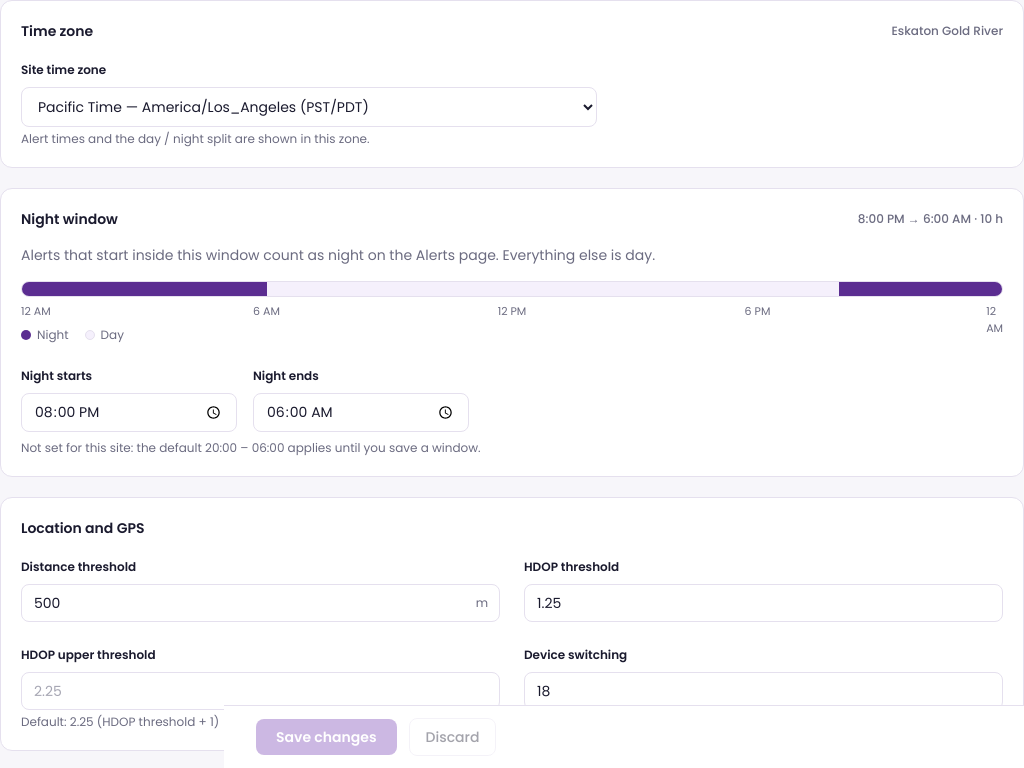
Test: SiteSettingsView › sends only what was changed, then shows the saved confirmation
The width and height of the screenshot is (1024, 768).
Replace the text in the field labelled "Distance threshold" with "600": (260, 603) [21,584,500,622]
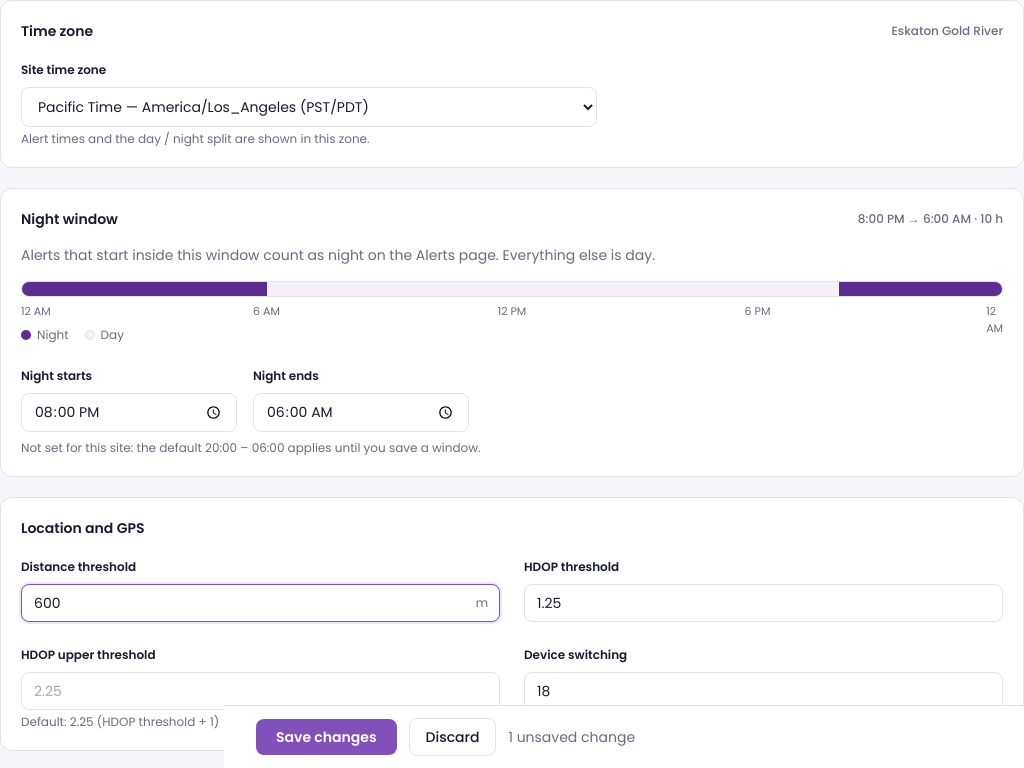
Check: the text "1 unsaved change" is shown, box [508,727,635,747]
Click the button "Save changes": (326, 737) [256,719,397,755]
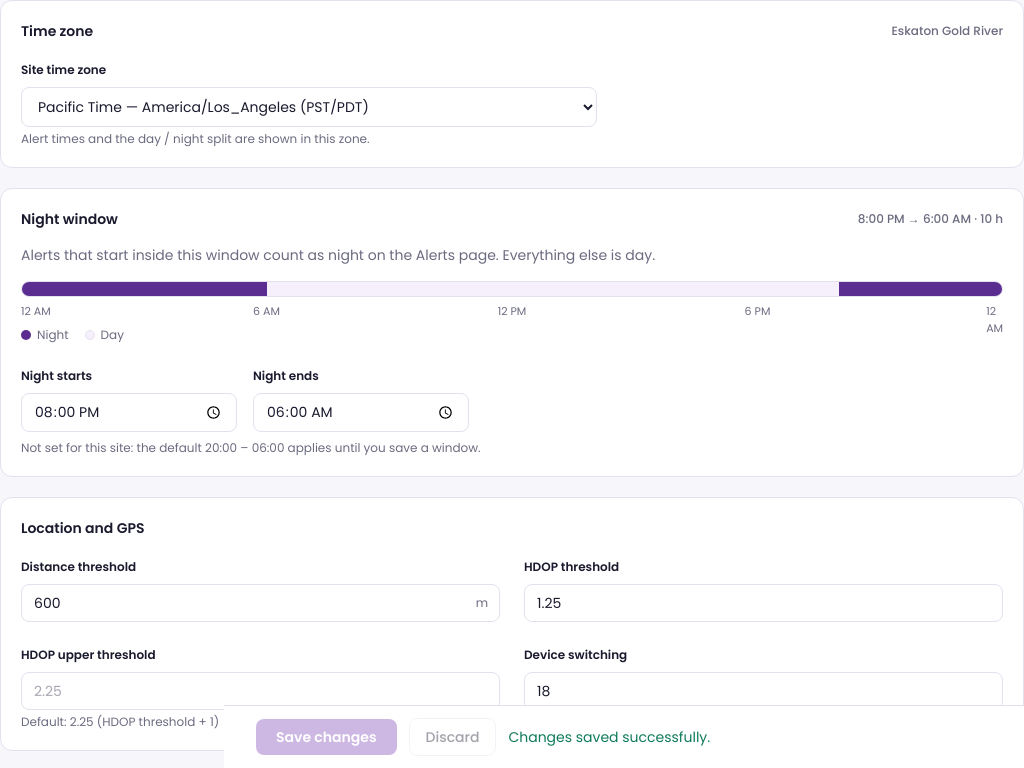
Check: the text "Changes saved successfully." is shown, box [508,727,710,747]
Check: the button "Save changes" is disabled, box [256,719,397,755]
